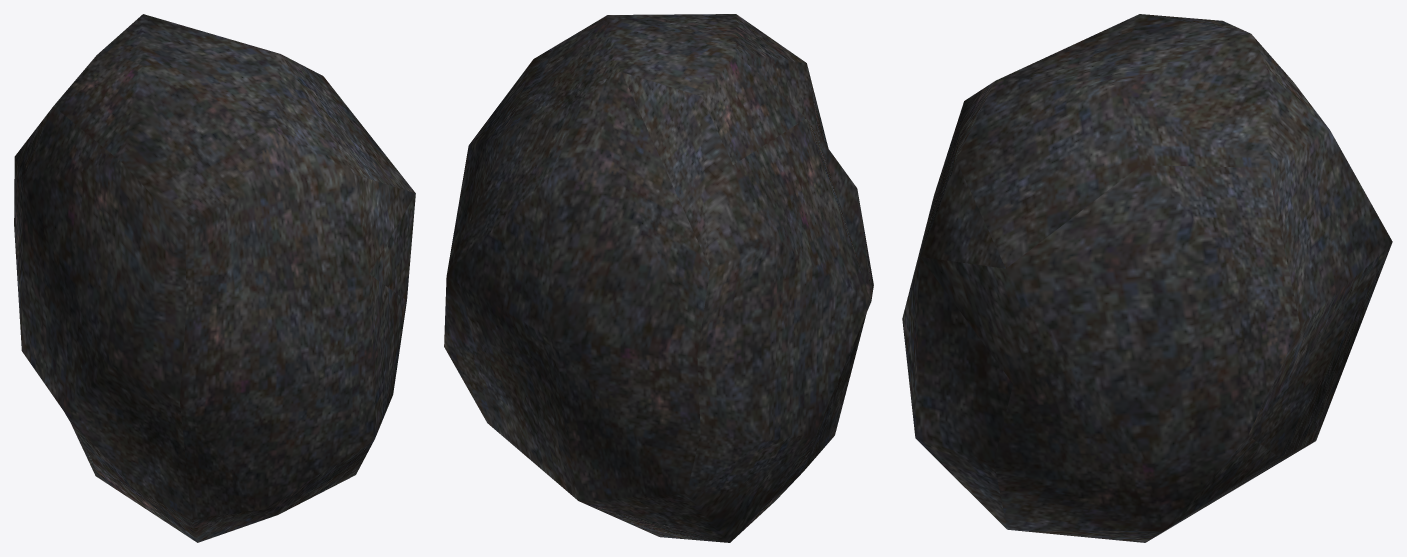
Rendered from asteroid_metal_small_s02_l2.fbx.
The picture shows the model from 3 angles, left to right: view 1: azimuth 30°, elevation 25°; view 2: azimuth 150°, elevation 25°; view 3: azimuth 270°, elevation 25°; orthographic projection. The views are drawn at different scales.
Parts seen in each view (by area): view 1: mesh_node; view 2: mesh_node; view 3: mesh_node.
Boxes of the visible parts, <box> form: mesh_node: <box>14,14,415,542</box>; mesh_node: <box>444,14,873,542</box>; mesh_node: <box>902,14,1392,542</box>.
Bounding box in the file's own units: 22.04 × 31.95 × 28.31.
